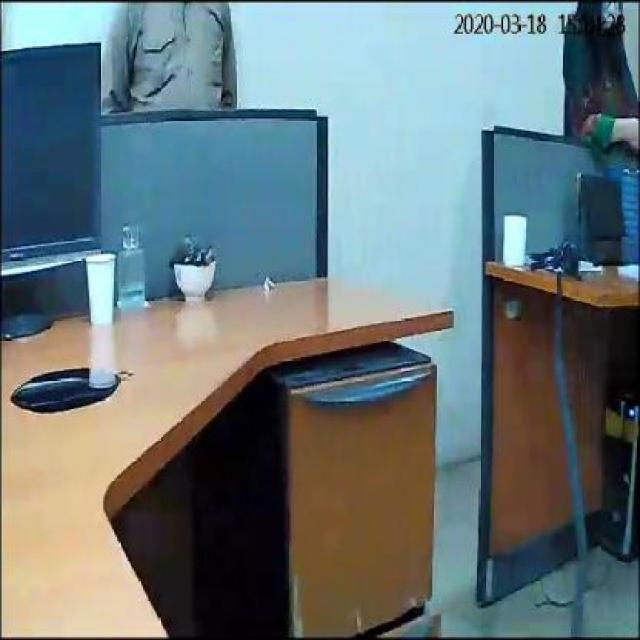spill: (12, 366, 134, 420)
